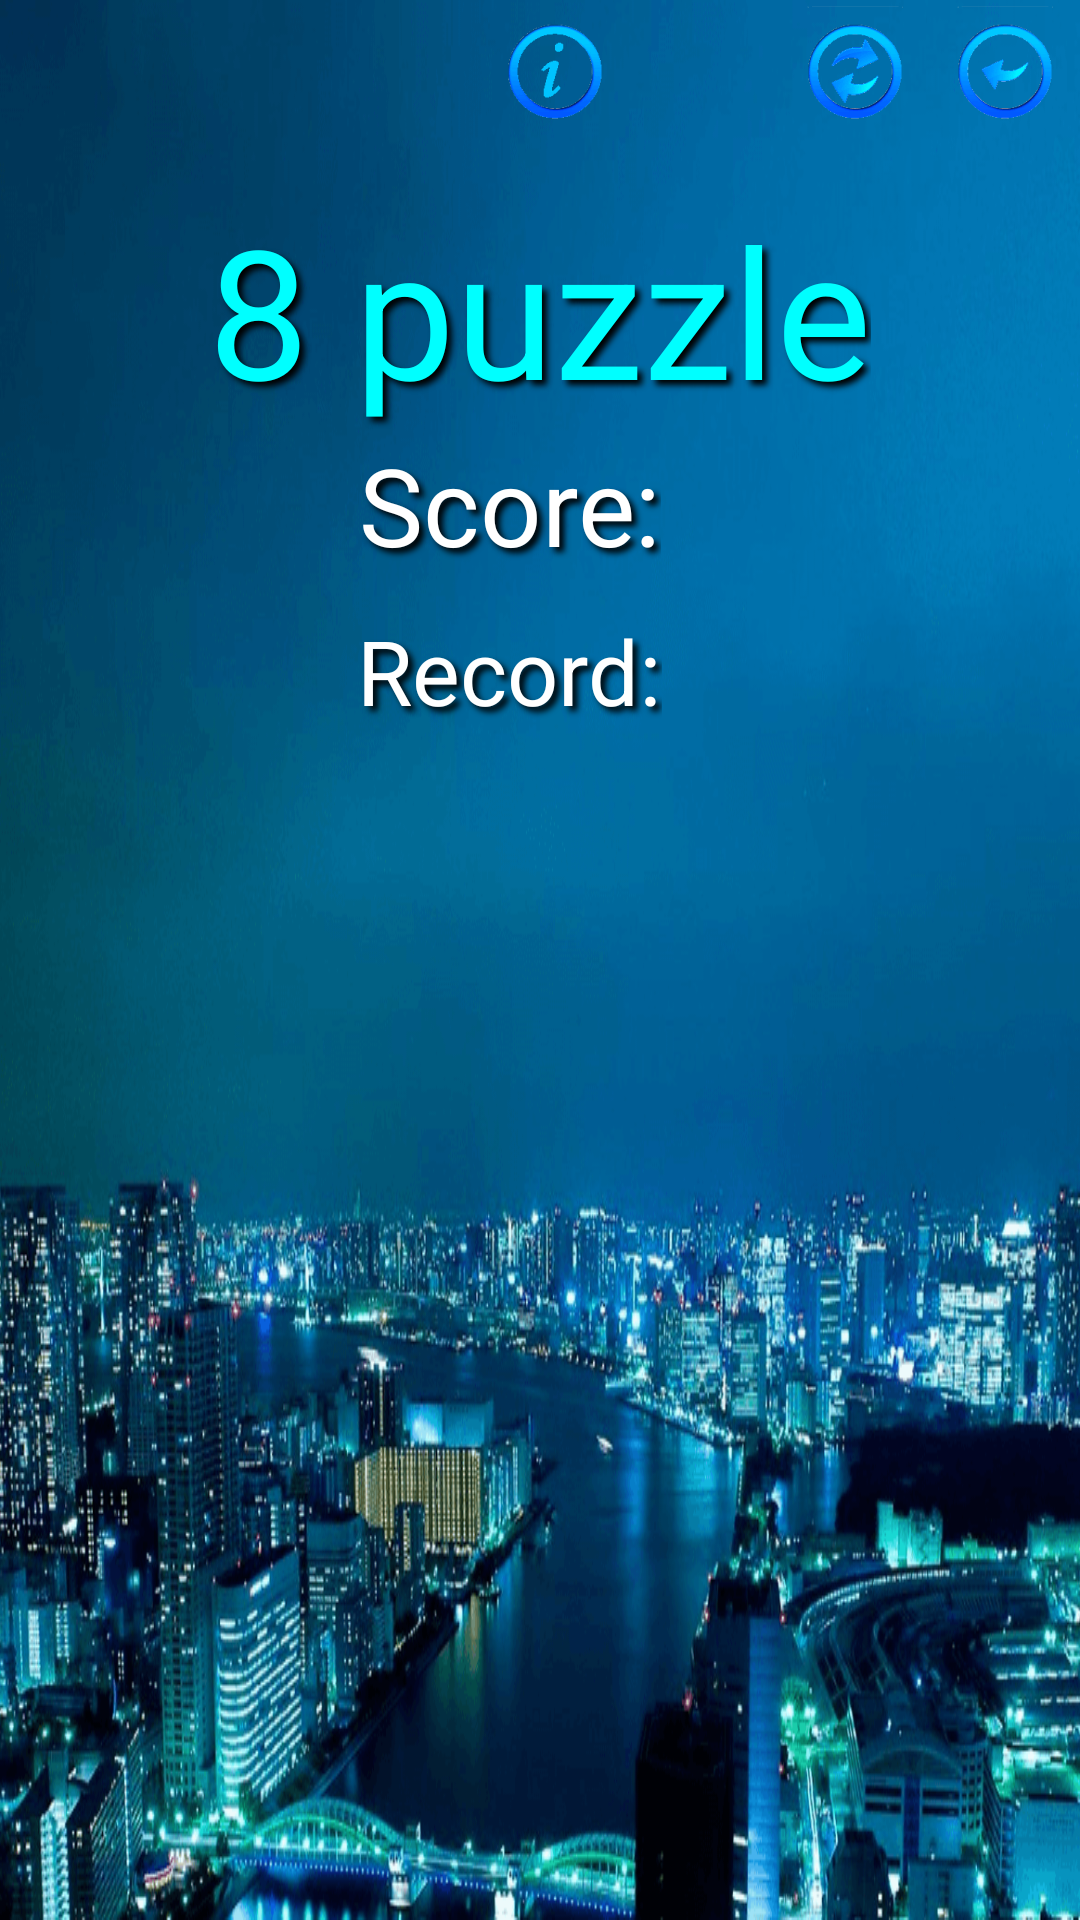

Locate icon controls on the screen. Image size 1080px x 1920px, boxes as (x1=x1, y1=y1, x2=x2, y2=y2).
about: (x1=508, y1=24, x2=602, y2=119)
back: (x1=958, y1=7, x2=1053, y2=119)
restart: (x1=808, y1=7, x2=903, y2=119)
